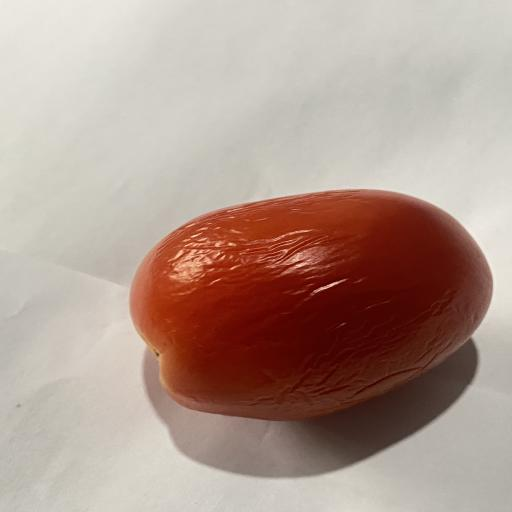spoiled: (130, 190, 492, 420), (295, 248, 298, 250)
